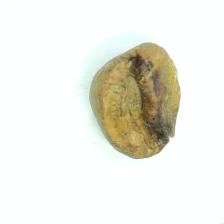NG: (113, 53, 176, 152)
